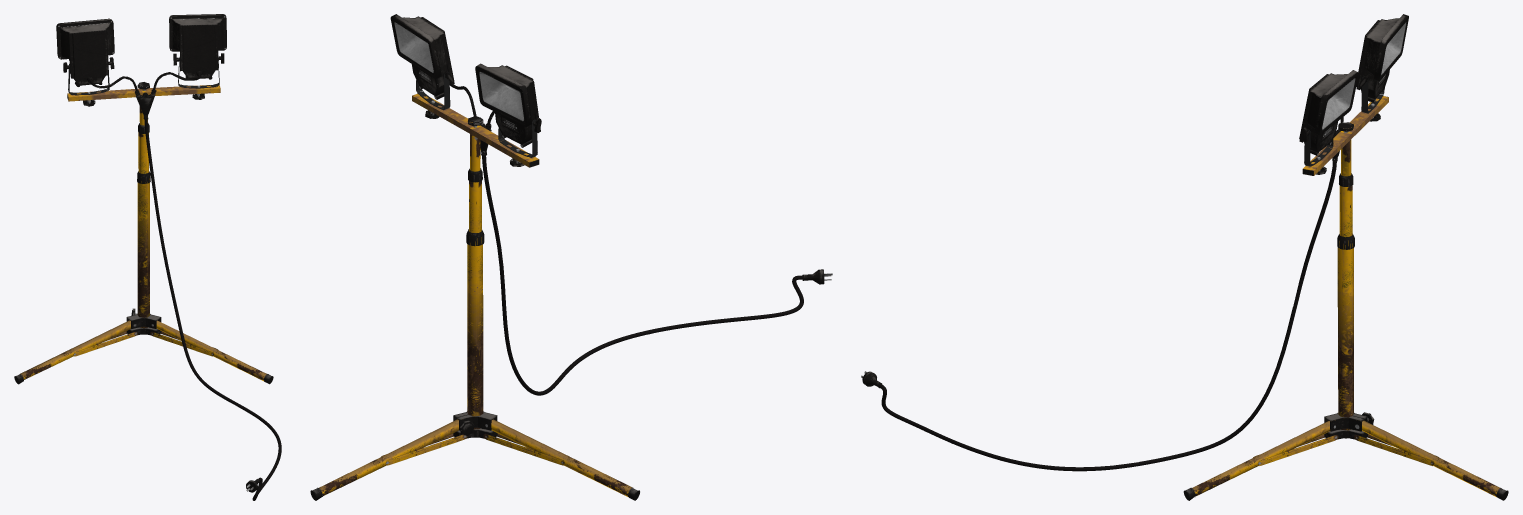
The model's file is ayakli_cift_projektor.gltf.
3 views of the same model, side by side, from view 1: azimuth 30°, elevation 25°; view 2: azimuth 150°, elevation 25°; view 3: azimuth 270°, elevation 25° (orthographic). The views are drawn at different scales.
Parts seen in each view (by area): view 1: ayakli_cift_projektor; view 2: ayakli_cift_projektor; view 3: ayakli_cift_projektor.
Part boxes in pixels (box(x1,y1,x2,y2)): ayakli_cift_projektor: box(14, 14, 281, 500); ayakli_cift_projektor: box(310, 14, 832, 500); ayakli_cift_projektor: box(861, 14, 1508, 500).
Size of what is drawn, in the model's own units: 1.1 by 1.7 by 2.43.
2 materials, 2 textured.
